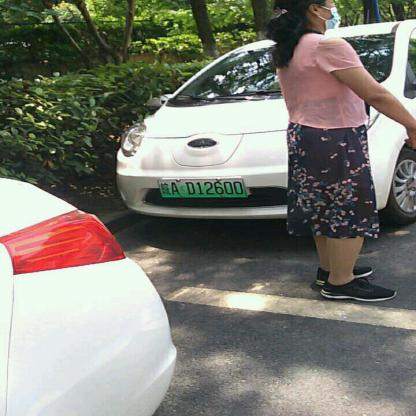lp: (156, 177, 248, 197)
